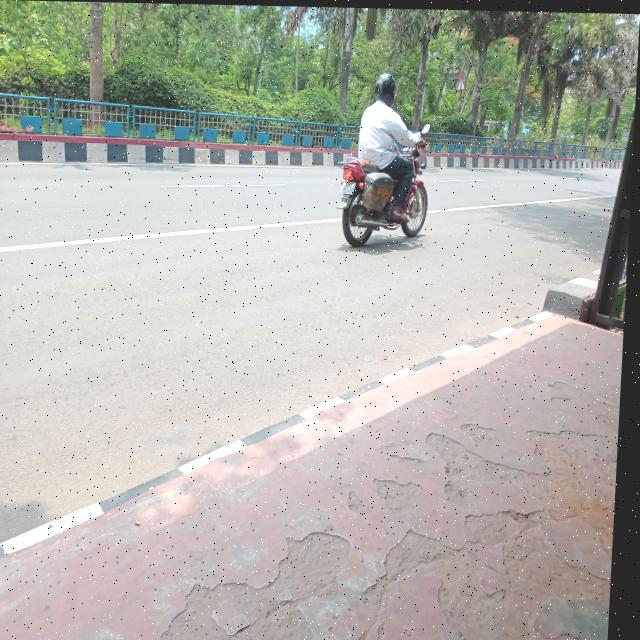bike: (332, 134, 456, 253)
